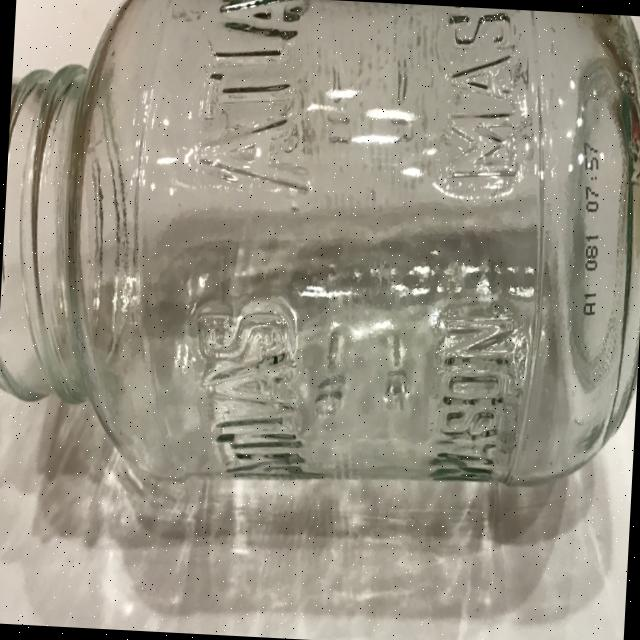glass: (0, 0, 640, 511)
